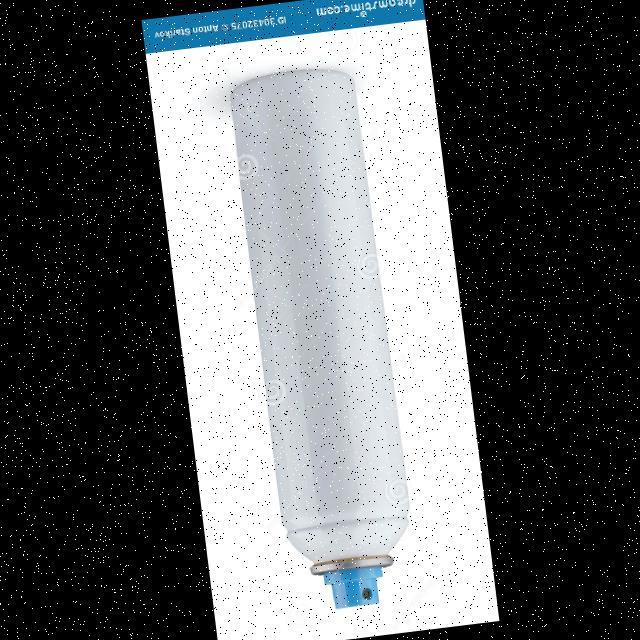chemical_spray_can: (198, 49, 444, 624)
